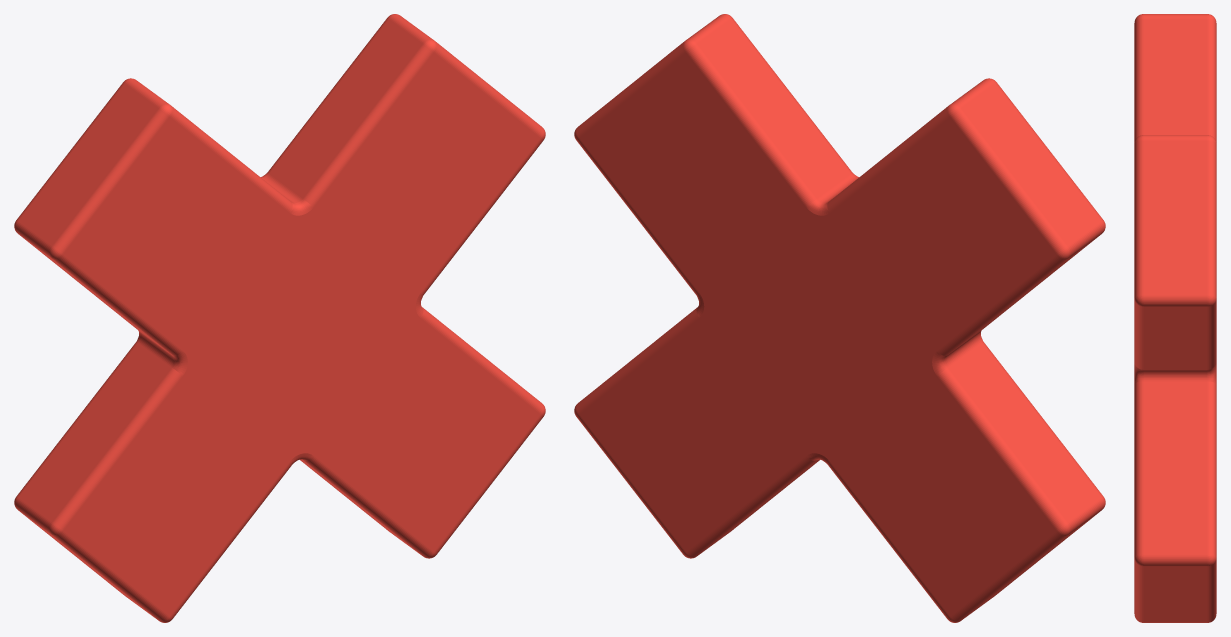
Rendered from cross.glb.
The picture shows the model from 3 angles, left to right: view 1: azimuth 30°, elevation 25°; view 2: azimuth 150°, elevation 25°; view 3: azimuth 270°, elevation 25°; orthographic projection. The views are drawn at different scales.
Visible parts, largest first — view 1: Plane.002; view 2: Plane.002; view 3: Plane.002.
Part boxes in pixels (bbox=[...]): Plane.002: bbox=[14, 14, 545, 622]; Plane.002: bbox=[574, 14, 1105, 622]; Plane.002: bbox=[1134, 14, 1216, 622].
Bounding box in the file's own units: 2.38 × 2.38 × 0.3644.
